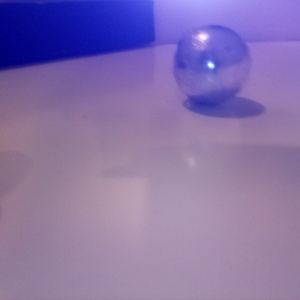alive_ball: (173, 25, 250, 105)
